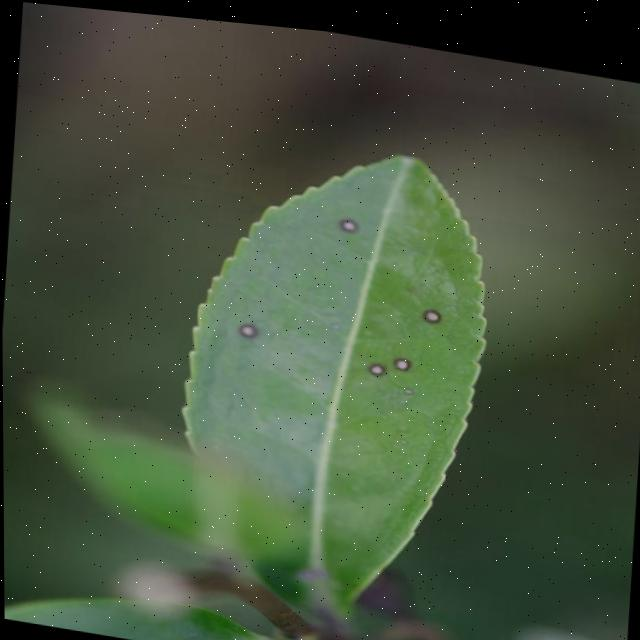Tea red scab: (389, 340, 423, 373), (420, 296, 445, 322), (367, 352, 394, 370), (341, 206, 363, 228)
